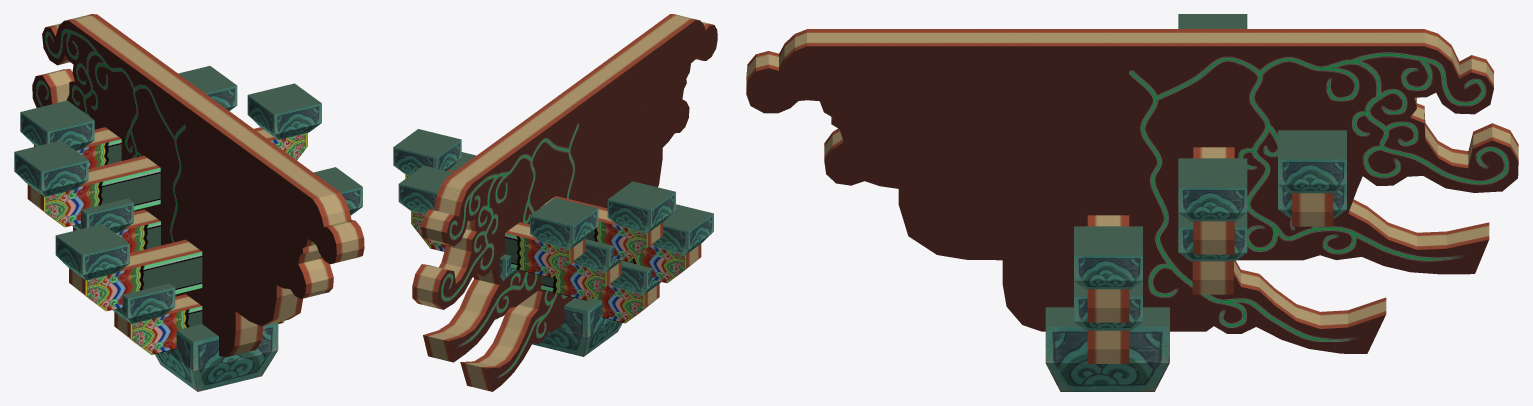
The model's file is SM_Geumsan_Mi_Gongpo_C.fbx.
The picture shows the model from 3 angles, left to right: view 1: azimuth 30°, elevation 25°; view 2: azimuth 150°, elevation 25°; view 3: azimuth 270°, elevation 25°; orthographic projection. The views are drawn at different scales.
Parts seen in each view (by area): view 1: SM_Geumsan_Mi_Gongpo_C; view 2: SM_Geumsan_Mi_Gongpo_C; view 3: SM_Geumsan_Mi_Gongpo_C.
Part boxes in pixels (left/top/right/bottom): SM_Geumsan_Mi_Gongpo_C: left=14, top=14, right=364, bottom=391; SM_Geumsan_Mi_Gongpo_C: left=393, top=14, right=717, bottom=391; SM_Geumsan_Mi_Gongpo_C: left=746, top=14, right=1518, bottom=391.
Bounding box in the file's own units: 149 × 133 × 279.
